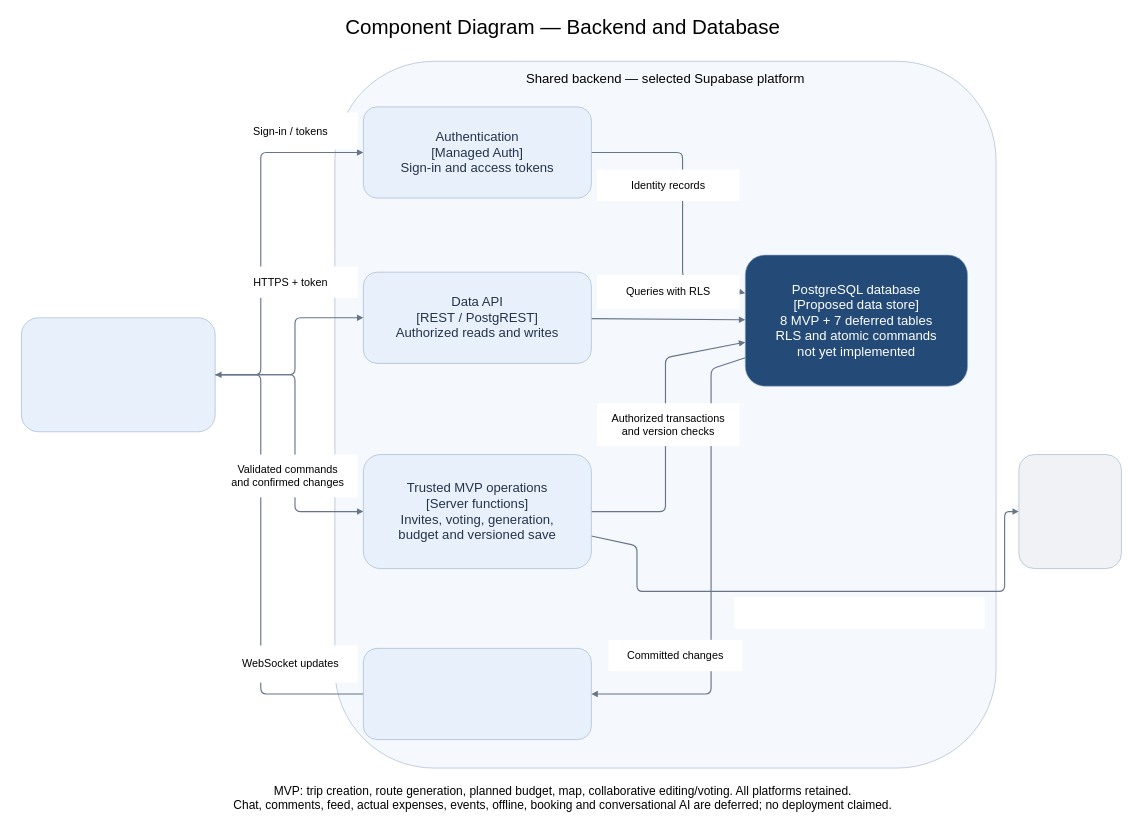
This 1131x837 diagram has some shape labels left out. The box of each missing label's shape, as (x1, y1, x2, y2) in pixels:
AI provider [External] Initial route drafts: (1018, 454, 1121, 569)
Android / iOS / web [Planned clients] Shared identity and trip data: (21, 317, 215, 432)
Realtime delivery [Managed subscriptions] Saved-data change events: (363, 648, 591, 740)
Server-side AI request / draft response: (734, 597, 984, 628)
